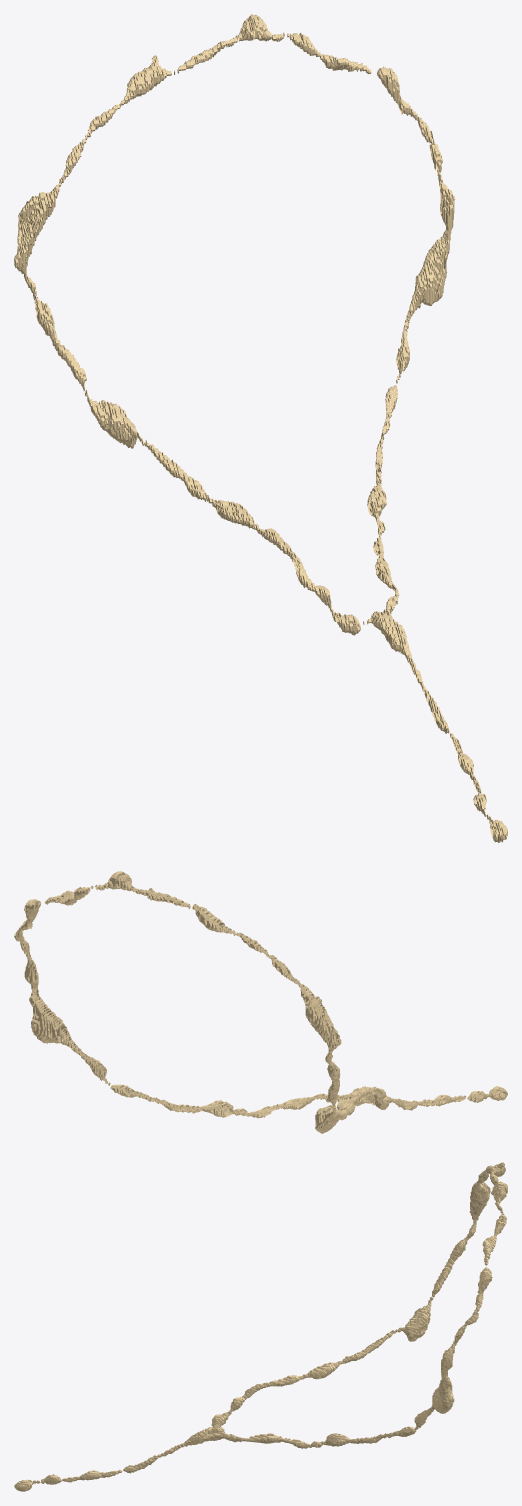
The model's file is SVV_AQR.gltf.
The picture shows the model from 3 angles, top to bottom: view 1: azimuth 30°, elevation 25°; view 2: azimuth 150°, elevation 25°; view 3: azimuth 270°, elevation 25°; orthographic projection. The views are drawn at different scales.
Parts seen in each view (by area): view 1: AQR; view 2: AQR; view 3: AQR.
Boxes of the visible parts, x1,y1,x2,y2 form: AQR: (14, 14, 507, 842); AQR: (14, 871, 507, 1133); AQR: (14, 1162, 507, 1491).
Bounding box in the file's own units: 129079 × 154974 × 200779.
